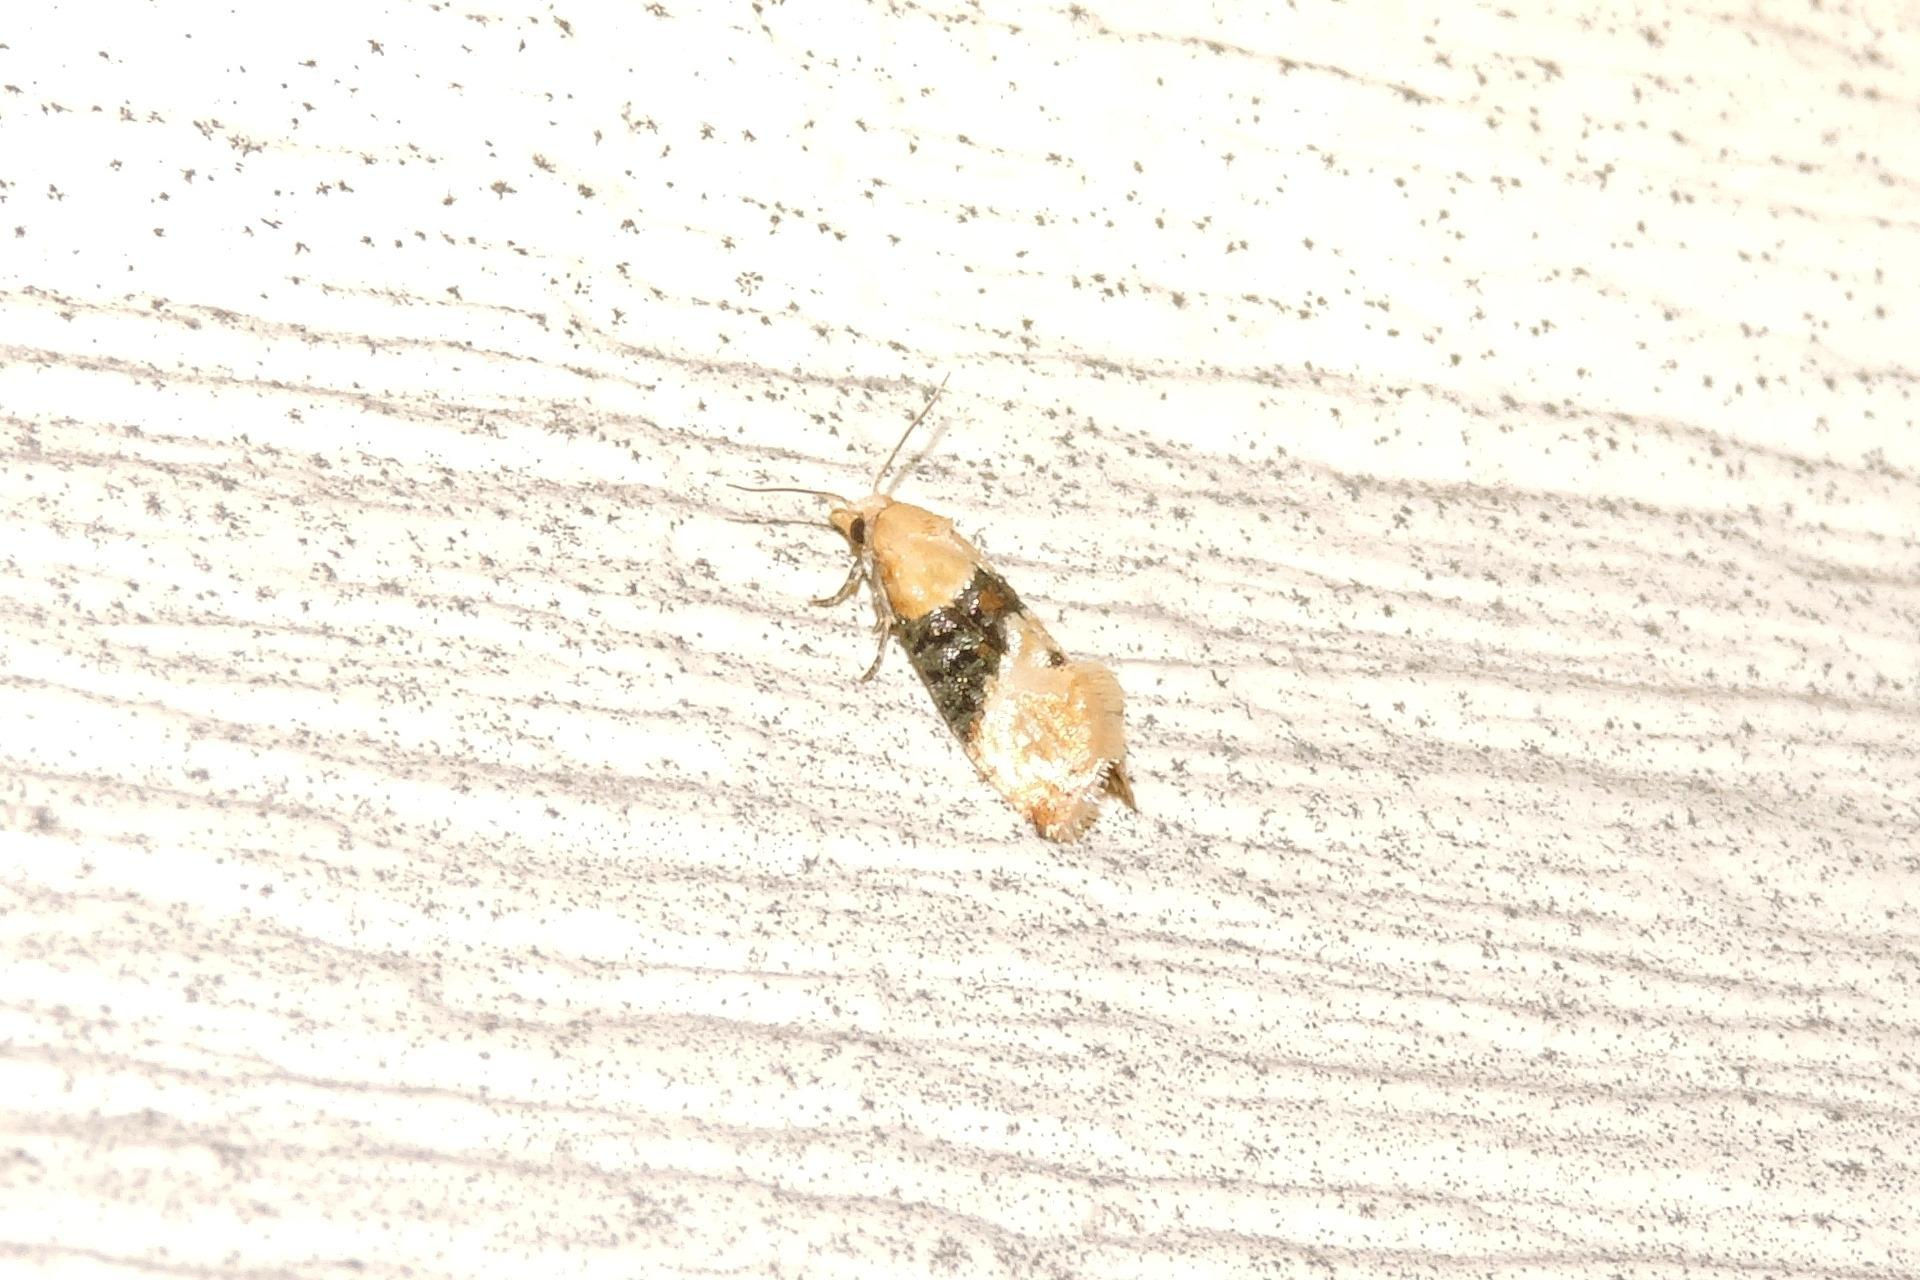Eupoecilia Ambiguella: (729, 367, 1144, 850)
